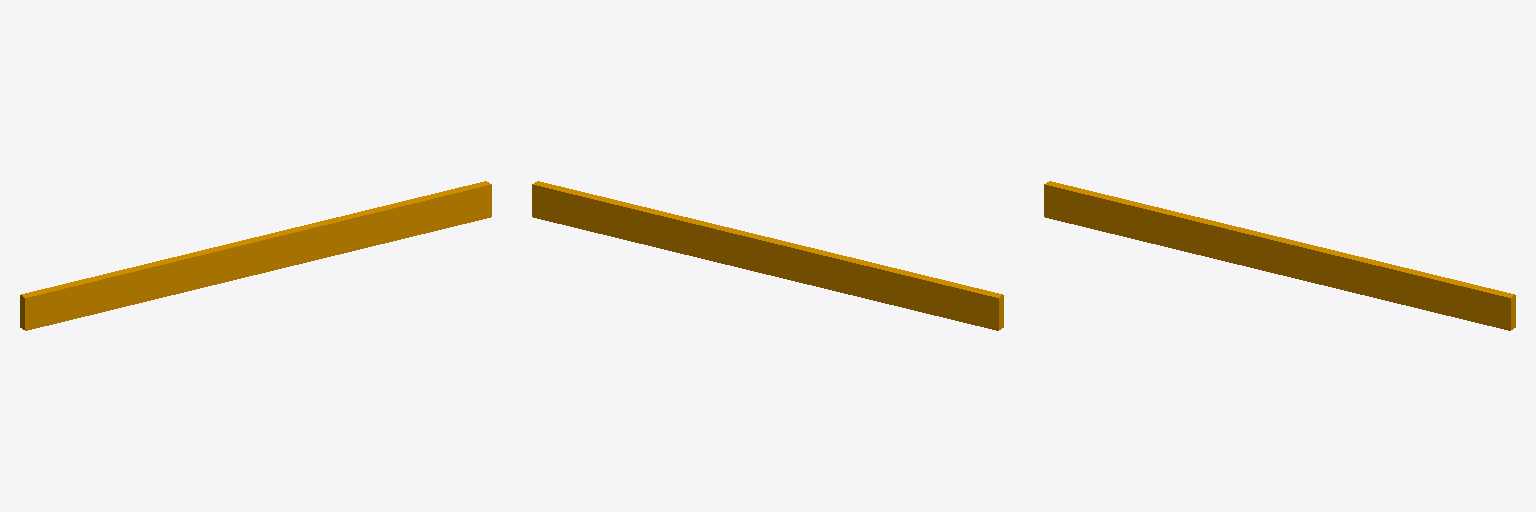
URDF robot description (wall_HUGE):
<?xml version="1.0"?>

<robot name="wall_HUGE">
   <link name="base_link">
     <inertial>
       <origin xyz="0 0 0" />
       <mass value="50.0" />
       <inertia  ixx="1.0" ixy="0.0"  ixz="0.0"  iyy="100.0"  iyz="0.0"  izz="1.0" />
     </inertial>
     <visual>
       <origin xyz="0 0 0"/>
       <geometry>
         <box size="16.3 0.3 1.1" />
       </geometry>
     </visual>
     <collision>
       <origin xyz="0 0 0"/>
       <geometry>
         <box size="15.70 0.3 1.1" />
       </geometry>
     </collision>
   </link>
   <gazebo>
     <material>IPA/Wall2</material>
   </gazebo>
</robot>

--- Facts derived from the render (not from the file) ---
Views: 3 orthographic renders of the robot side by side, from view 1: azimuth 30°, elevation 25°; view 2: azimuth 150°, elevation 25°; view 3: azimuth 330°, elevation 25°.
Model wall_HUGE with 1 links and 0 joints (none), rooted at base_link, posed all joints at 0.
Links seen in each view (by area): view 1: base_link; view 2: base_link; view 3: base_link.
Boxes of the visible links, x1,y1,x2,y2 form: base_link: [20, 181, 491, 330]; base_link: [532, 181, 1003, 330]; base_link: [1044, 181, 1515, 330].
Bounding box of the posed robot: 16.3 × 0.3 × 1.1 m (x, y, z).
Geometry: primitives only (box / cylinder / sphere), no mesh files.